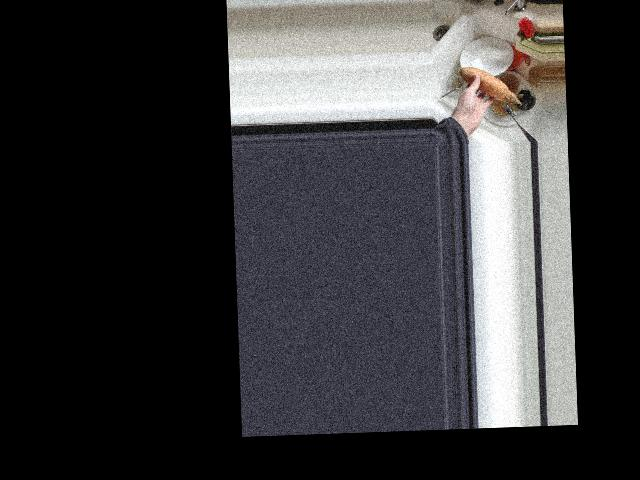sweet_potato: (458, 63, 520, 109)
